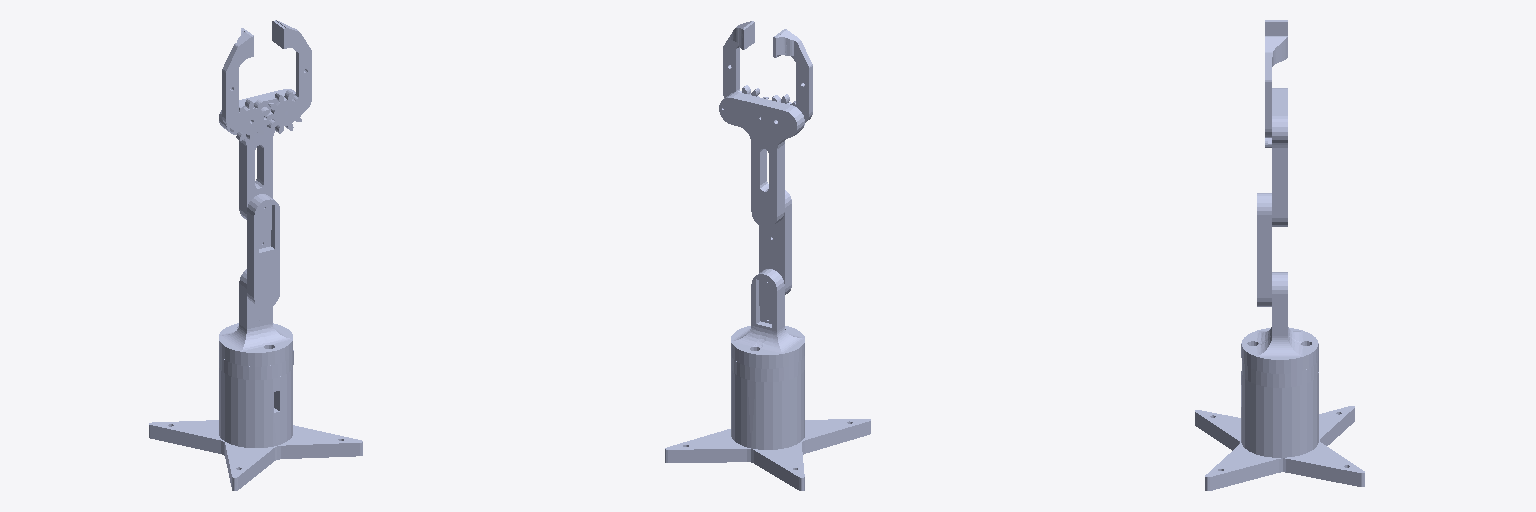
URDF robot description (robot_arm):
<?xml version="1.0" encoding="utf-8"?>
<!-- This URDF was automatically created by SolidWorks to URDF Exporter! Originally created by [author] ([email redacted]) 
     Commit Version: 1.6.0-1-g15f4949  Build Version: 1.6.7594.29634
     For more information, please see http://wiki.ros.org/sw_urdf_exporter -->
<robot
  name="robot_arm">
  <link
    name="Link_1">
    <inertial>
      <origin
        xyz="1.3259E-05 -0.00020787 0.022632"
        rpy="0 0 0" />
      <mass
        value="0.14143" />
      <inertia
        ixx="9.5094E-05"
        ixy="-7.6497E-08"
        ixz="-5.2057E-08"
        iyy="9.6288E-05"
        iyz="8.1613E-07"
        izz="9.9513E-05" />
    </inertial>
    <visual>
      <origin
        xyz="0 0 0"
        rpy="0 0 0" />
      <geometry>
        <mesh
          filename="package://robot_arm/meshes/Link_1.STL" />
      </geometry>
      <material
        name="">
        <color
          rgba="0.79216 0.81961 0.93333 1" />
      </material>
    </visual>
    <collision>
      <origin
        xyz="0 0 0"
        rpy="0 0 0" />
      <geometry>
        <mesh
          filename="package://robot_arm/meshes/Link_1.STL" />
      </geometry>
    </collision>
  </link>
  <link
    name="Link_2">
    <inertial>
      <origin
        xyz="-1.7958E-07 -0.0001946 0.0064567"
        rpy="0 0 0" />
      <mass
        value="0.047031" />
      <inertia
        ixx="1.1405E-05"
        ixy="-7.3013E-09"
        ixz="-2.1692E-11"
        iyy="1.1766E-05"
        iyz="5.8721E-08"
        izz="1.2461E-05" />
    </inertial>
    <visual>
      <origin
        xyz="0 0 0"
        rpy="0 0 0" />
      <geometry>
        <mesh
          filename="package://robot_arm/meshes/Link_2.STL" />
      </geometry>
      <material
        name="">
        <color
          rgba="0.79216 0.81961 0.93333 1" />
      </material>
    </visual>
    <collision>
      <origin
        xyz="0 0 0"
        rpy="0 0 0" />
      <geometry>
        <mesh
          filename="package://robot_arm/meshes/Link_2.STL" />
      </geometry>
    </collision>
  </link>
  <joint
    name="Joint_1"
    type="revolute">
    <origin
      xyz="0 0 0.07"
      rpy="0 0 0" />
    <parent
      link="Link_1" />
    <child
      link="Link_2" />
    <axis
      xyz="0 0 0" />
    <limit
      lower="0"
      upper="0"
      effort="0"
      velocity="0" />
  </joint>
  <link
    name="Link_3">
    <inertial>
      <origin
        xyz="-7.2675E-07 -0.0093828 0.035092"
        rpy="0 0 0" />
      <mass
        value="0.01296" />
      <inertia
        ixx="5.3096E-06"
        ixy="1.7479E-11"
        ixz="3.3284E-10"
        iyy="5.6442E-06"
        iyz="-6.5628E-08"
        izz="5.7751E-07" />
    </inertial>
    <visual>
      <origin
        xyz="0 0 0"
        rpy="0 0 0" />
      <geometry>
        <mesh
          filename="package://robot_arm/meshes/Link_3.STL" />
      </geometry>
      <material
        name="">
        <color
          rgba="0.79216 0.81961 0.93333 1" />
      </material>
    </visual>
    <collision>
      <origin
        xyz="0 0 0"
        rpy="0 0 0" />
      <geometry>
        <mesh
          filename="package://robot_arm/meshes/Link_3.STL" />
      </geometry>
    </collision>
  </link>
  <joint
    name="Joint_2"
    type="revolute">
    <origin
      xyz="0 0 0.042"
      rpy="0 0 0" />
    <parent
      link="Link_2" />
    <child
      link="Link_3" />
    <axis
      xyz="0 -1 0" />
    <limit
      lower="0"
      upper="0"
      effort="0"
      velocity="0" />
  </joint>
  <link
    name="Link_4">
    <inertial>
      <origin
        xyz="0.0023712 2.6272E-05 0.054037"
        rpy="0 0 0" />
      <mass
        value="0.022295" />
      <inertia
        ixx="1.3533E-05"
        ixy="-7.4689E-11"
        ixz="1.1336E-07"
        iyy="1.6104E-05"
        iyz="3.6796E-08"
        izz="2.947E-06" />
    </inertial>
    <visual>
      <origin
        xyz="0 0 0"
        rpy="0 0 0" />
      <geometry>
        <mesh
          filename="package://robot_arm/meshes/Link_4.STL" />
      </geometry>
      <material
        name="">
        <color
          rgba="0.79216 0.81961 0.93333 1" />
      </material>
    </visual>
    <collision>
      <origin
        xyz="0 0 0"
        rpy="0 0 0" />
      <geometry>
        <mesh
          filename="package://robot_arm/meshes/Link_4.STL" />
      </geometry>
    </collision>
  </link>
  <joint
    name="Joint_3"
    type="revolute">
    <origin
      xyz="0 0 0.0575"
      rpy="0 0 0" />
    <parent
      link="Link_3" />
    <child
      link="Link_4" />
    <axis
      xyz="0 1 0" />
    <limit
      lower="0"
      upper="0"
      effort="0"
      velocity="0" />
  </joint>
  <link
    name="Gripper">
    <inertial>
      <origin
        xyz="-0.013598 -0.0068444 0.020417"
        rpy="0 0 0" />
      <mass
        value="0.015151" />
      <inertia
        ixx="5.9735E-06"
        ixy="3.8799E-09"
        ixz="7.5027E-08"
        iyy="6.6512E-06"
        iyz="-3.0064E-07"
        izz="8.7313E-07" />
    </inertial>
    <visual>
      <origin
        xyz="0 0 0"
        rpy="0 0 0" />
      <geometry>
        <mesh
          filename="package://robot_arm/meshes/Gripper.STL" />
      </geometry>
      <material
        name="">
        <color
          rgba="0.79216 0.81961 0.92941 1" />
      </material>
    </visual>
    <collision>
      <origin
        xyz="0 0 0"
        rpy="0 0 0" />
      <geometry>
        <mesh
          filename="package://robot_arm/meshes/Gripper.STL" />
      </geometry>
    </collision>
  </link>
  <joint
    name="Joint_4"
    type="revolute">
    <origin
      xyz="0.0175 0 0.075"
      rpy="0 0 0" />
    <parent
      link="Link_4" />
    <child
      link="Gripper" />
    <axis
      xyz="0 1 0" />
    <limit
      lower="0"
      upper="0"
      effort="0"
      velocity="0" />
  </joint>
</robot>

--- Facts derived from the render (not from the file) ---
3 views of the same robot in one strip: view 1: azimuth 30°, elevation 25°; view 2: azimuth 150°, elevation 25°; view 3: azimuth 270°, elevation 25° (orthographic).
Model robot_arm with 5 links and 4 joints (4 revolute), rooted at Link_1, posed all joints at 0.
Links seen in each view (by area): view 1: Link_1, Gripper, Link_2, Link_3, Link_4; view 2: Link_1, Link_4, Link_2, Gripper, Link_3; view 3: Link_1, Link_2, Link_4, Link_3, Gripper.
Boxes of the visible links, x1,y1,x2,y2 form: Link_1: (149,368,362,490); Gripper: (222,20,311,141); Link_2: (219,269,293,379); Link_3: (247,194,279,308); Link_4: (219,89,300,219); Link_1: (665,370,870,490); Link_4: (719,92,804,227); Link_2: (731,269,804,381); Gripper: (723,21,812,134); Link_3: (759,190,791,294); Link_1: (1195,371,1364,490); Link_2: (1241,272,1318,387); Link_4: (1272,88,1287,226); Link_3: (1257,193,1271,306); Gripper: (1265,20,1287,147).
Bounding box of the posed robot: 0.1101 × 0.1101 × 0.3073 m (x, y, z).
Meshes: 5 distinct files referenced, 5 mesh visuals loaded (5 binary STL).